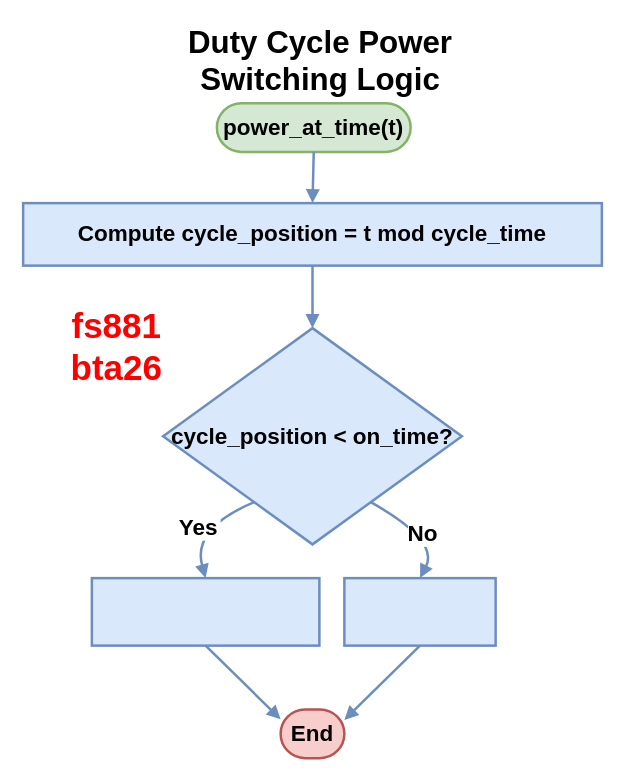
The diagram is 624 pixels wide and 780 high, and some of its shapes have lost their labels. The shapes that lost their labels are listed below. From the top down, each one's box as (x1, y1, x2, y2) in pixels, then its label:
(90, 576, 320, 646): Return power_on
(342, 576, 496, 646): Return 0
